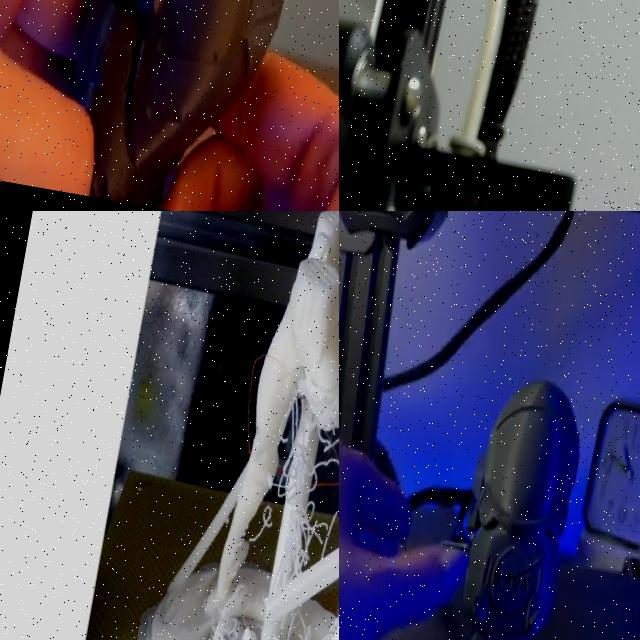spaghetti: (204, 376, 339, 640), (279, 420, 339, 577), (264, 353, 320, 513), (196, 587, 322, 640), (303, 572, 339, 640)
